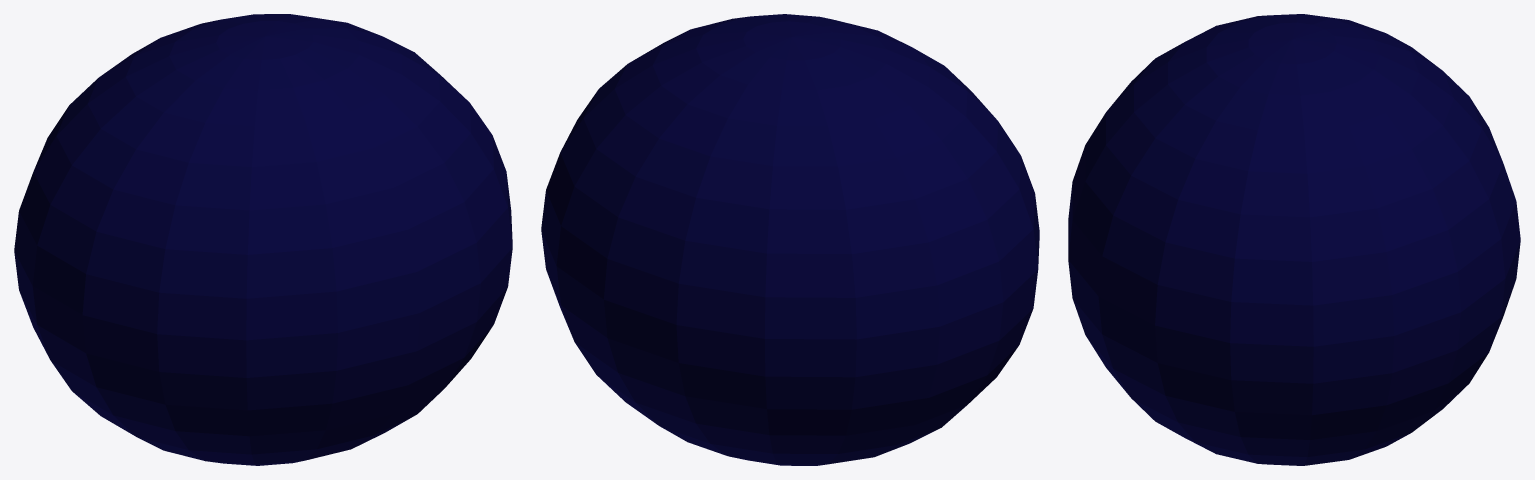
The model's file is spacesphere.glb.
3 views of the same model, side by side, from view 1: azimuth 30°, elevation 25°; view 2: azimuth 150°, elevation 25°; view 3: azimuth 270°, elevation 25° (orthographic).
Visible parts, largest first — view 1: Sphere; view 2: Sphere; view 3: Sphere.
Part boxes in pixels (box(x1,y1,x2,y2)): Sphere: box(14, 14, 512, 465); Sphere: box(541, 14, 1039, 465); Sphere: box(1068, 14, 1520, 465).
Size of the model in its own units: 19.45 by 17.02 by 17.42.
